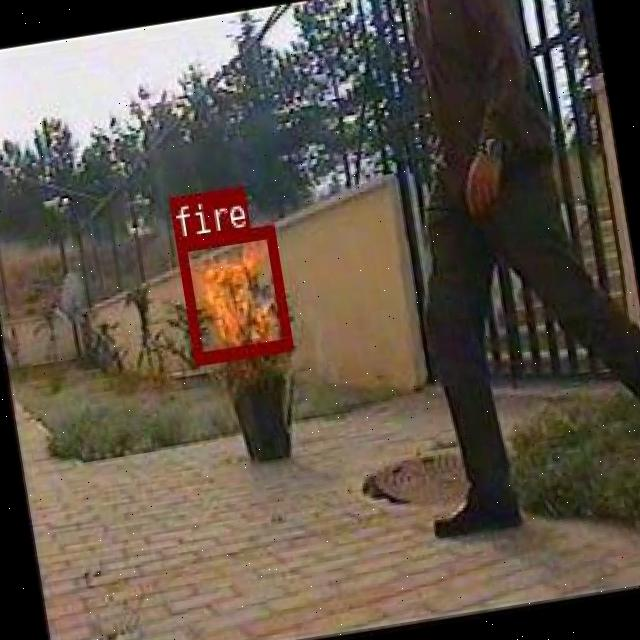fire: (175, 222, 292, 362)
